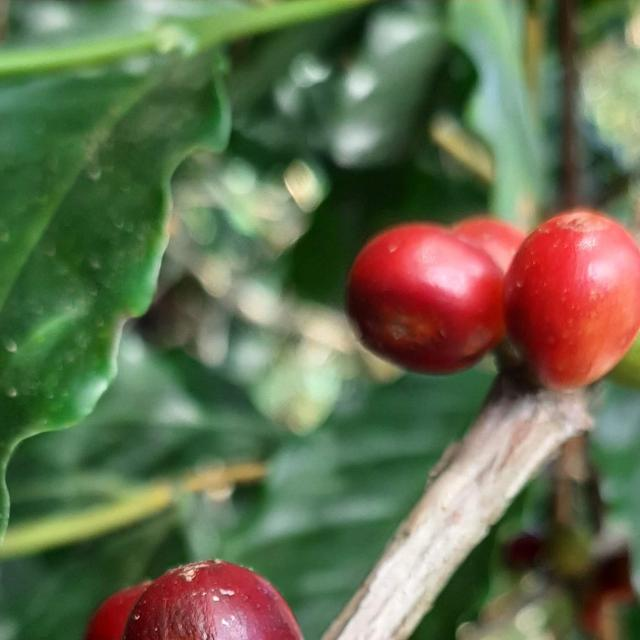red: (346, 223, 506, 374), (506, 210, 640, 390), (123, 561, 303, 640), (452, 215, 526, 274), (83, 582, 151, 640)
